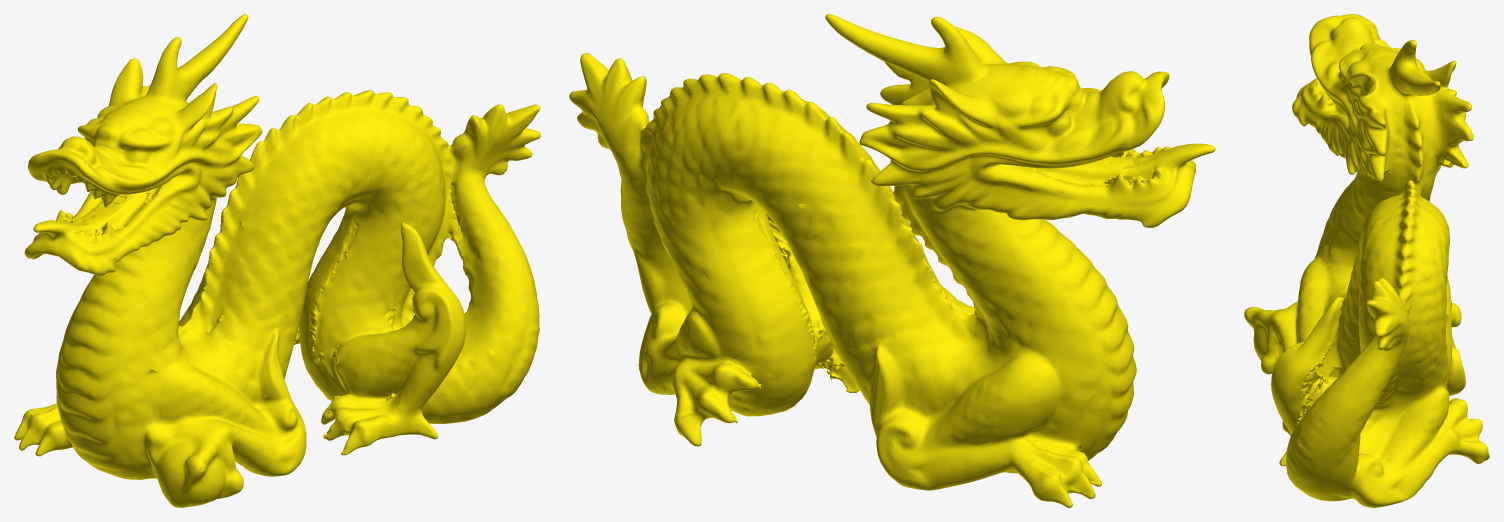
The model's file is Dragon.glb.
3 renders of one model, left to right at view 1: azimuth 30°, elevation 25°; view 2: azimuth 150°, elevation 25°; view 3: azimuth 270°, elevation 25°, orthographic. The views are drawn at different scales.
Parts seen in each view (by area): view 1: dragon; view 2: dragon; view 3: dragon.
Part boxes in pixels (<box>): dragon: <box>14,14,540,507</box>; dragon: <box>569,14,1215,507</box>; dragon: <box>1244,14,1489,507</box>.
Size of the model in its own units: 1.41 by 0.994 by 0.6303.
